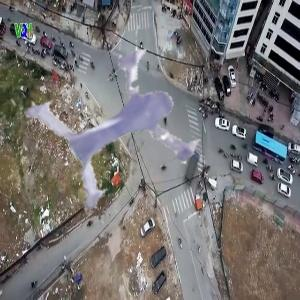drone: (32, 17, 236, 221)
